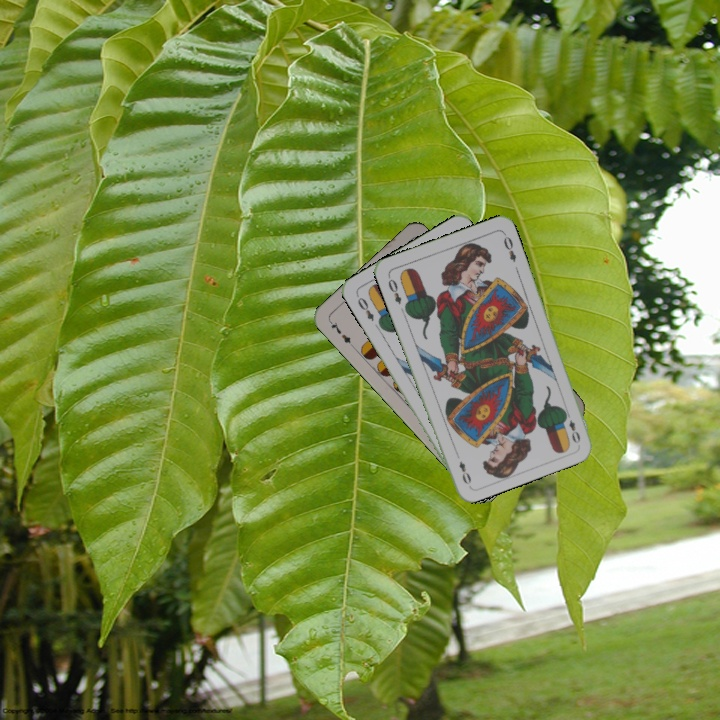E7: (325, 316, 357, 350)
EO: (561, 407, 583, 446), (352, 291, 376, 324), (384, 272, 404, 307)
